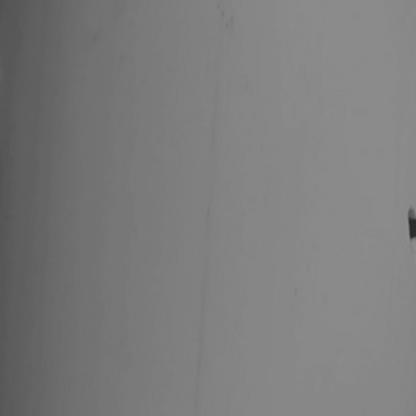kongdong: (402, 199, 416, 251)
